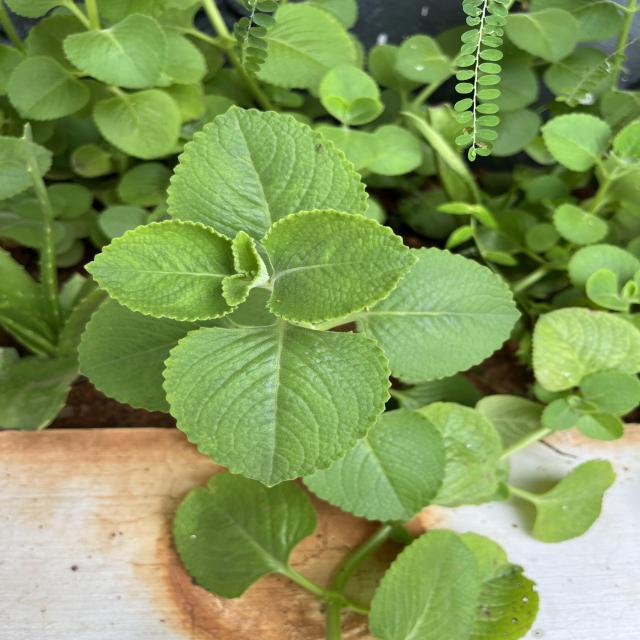Plectranthus barbatus: (160, 325, 391, 488), (164, 104, 372, 218), (172, 470, 322, 600), (266, 208, 420, 326), (408, 242, 524, 390), (82, 218, 247, 322), (303, 407, 447, 524), (62, 13, 170, 90), (92, 88, 182, 160), (6, 56, 92, 121), (539, 111, 612, 173), (504, 8, 582, 64), (580, 368, 640, 416)
